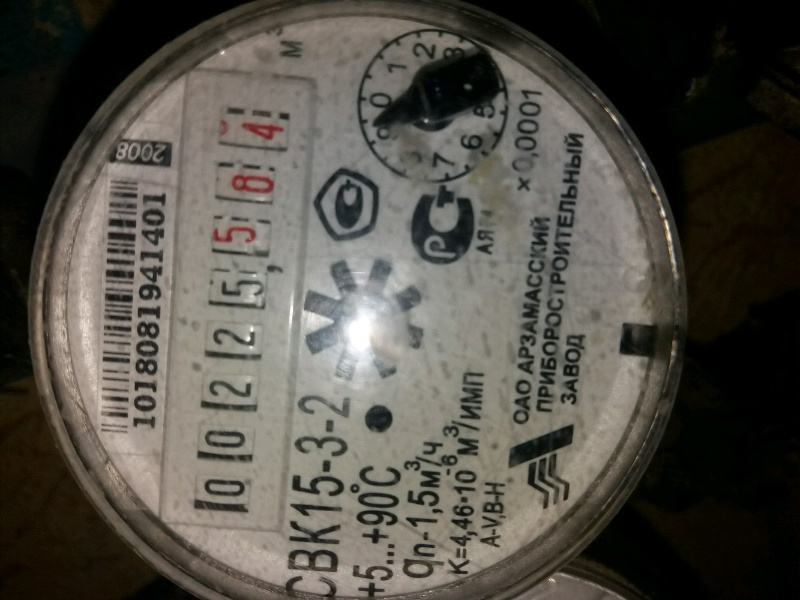meter: (178, 103, 294, 534)
